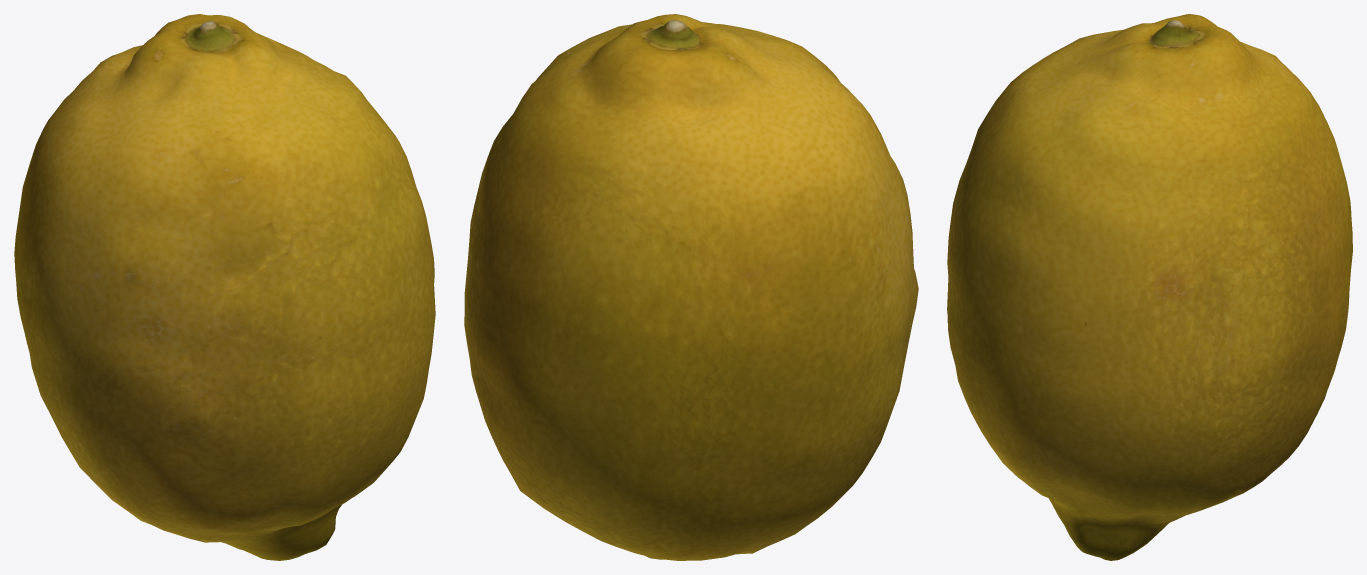
3 renders of one model, left to right at view 1: azimuth 30°, elevation 25°; view 2: azimuth 150°, elevation 25°; view 3: azimuth 270°, elevation 25°, orthographic. The views are drawn at different scales.
Parts seen in each view (by area): view 1: lemon; view 2: lemon; view 3: lemon.
Boxes of the visible parts, x1,y1,x2,y2 form: lemon: [14, 14, 435, 560]; lemon: [464, 14, 918, 560]; lemon: [947, 14, 1352, 560].
Bounding box in the file's own units: 0.0687 × 0.0954 × 0.0683.
Materials: 1 (1 with a texture image).
